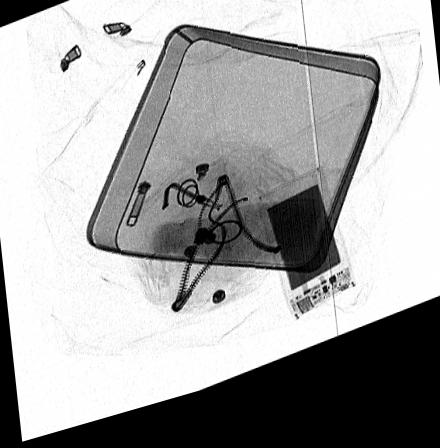Powerbank: (253, 182, 358, 338)
